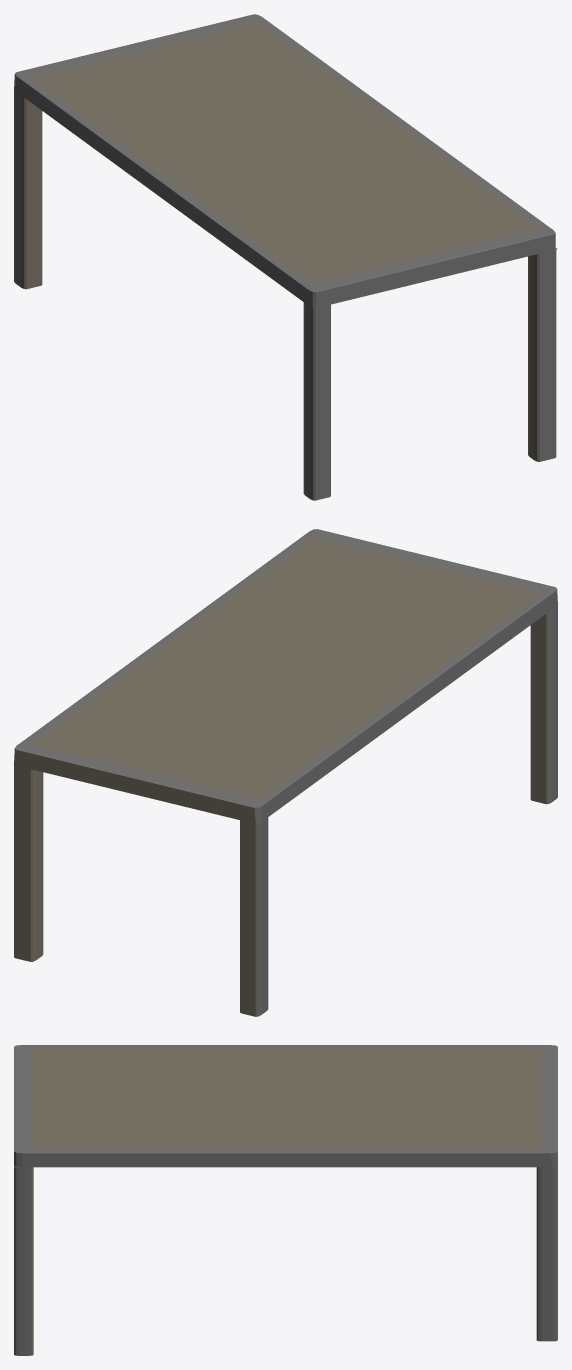
File: prop-table.fbx
3 views of the same model, one above another, from view 1: azimuth 30°, elevation 25°; view 2: azimuth 150°, elevation 25°; view 3: azimuth 270°, elevation 25° (orthographic). The views are drawn at different scales.
Visible parts, largest first — view 1: Cube; view 2: Cube; view 3: Cube.
Boxes of the visible parts, <box> form: Cube: <box>14,14,557,500</box>; Cube: <box>14,529,557,1016</box>; Cube: <box>14,1045,557,1355</box>.
Size of the model in its own units: 80 by 70 by 170.
